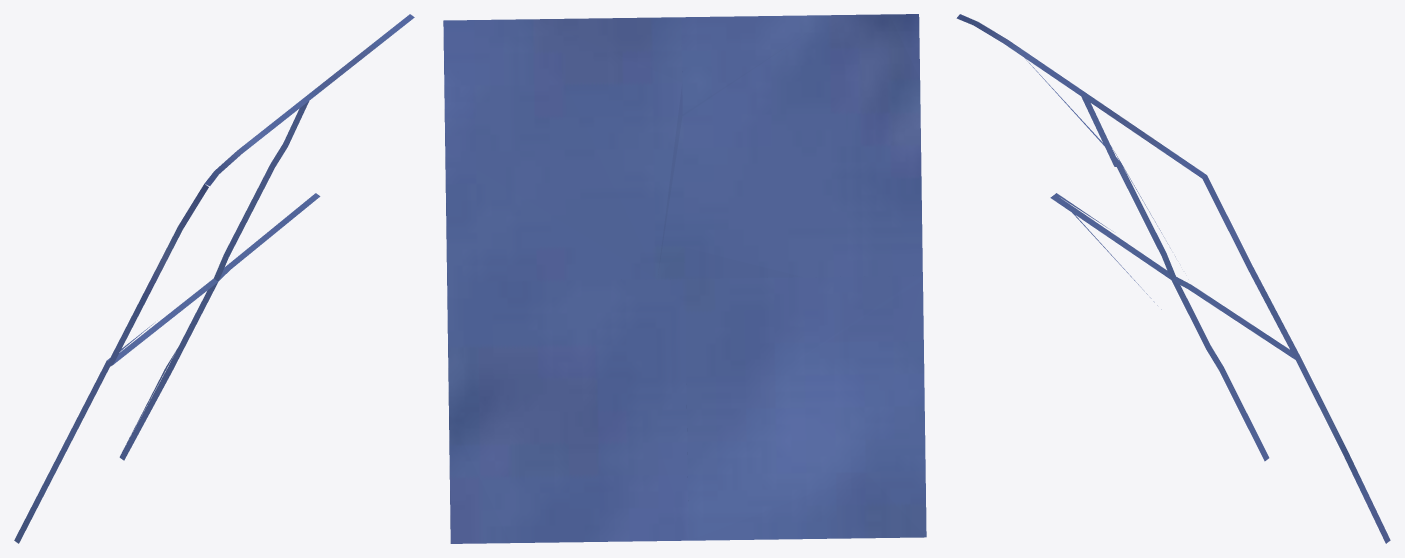
3 views of the same model, side by side, from view 1: azimuth 30°, elevation 25°; view 2: azimuth 150°, elevation 25°; view 3: azimuth 270°, elevation 25° (orthographic). The views are drawn at different scales.
Size of the model in its own units: 9804 by 8875 by 8420.
Materials: 1 (1 with a texture image).
